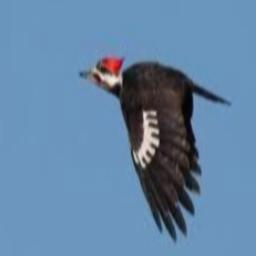Woodpecker: (81, 56, 232, 240)
